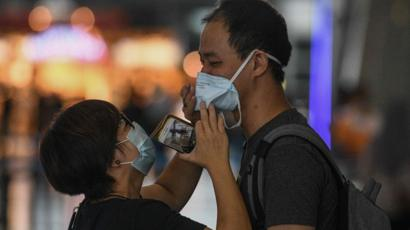Mask: (195, 22, 272, 125), (108, 108, 159, 177)
